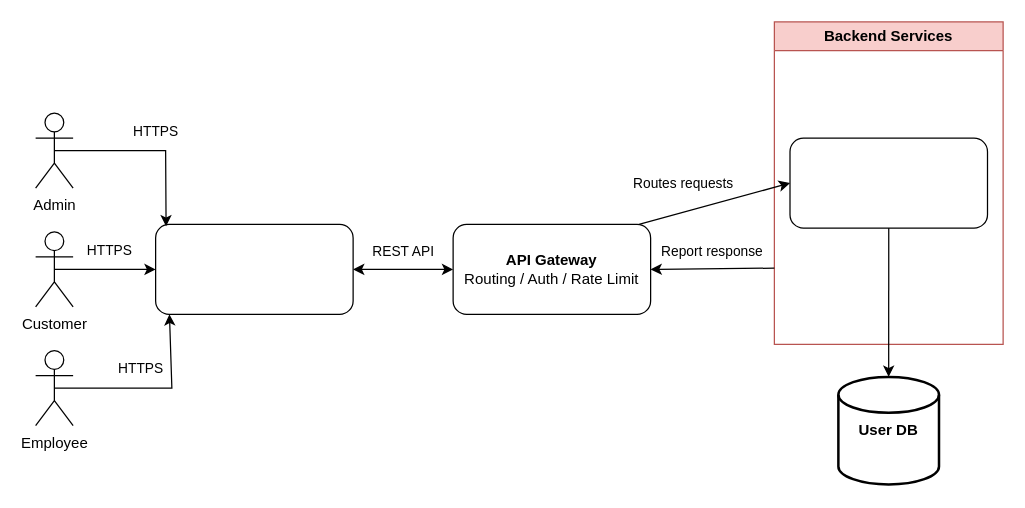
The diagram is 1025 pixels wide and 508 high, and some of its shapes have lost their labels. The shapes that lost their labels are listed below. From the top down, each one's centre as x and y in pixels, then its label:
At (888,182): "User Service".
At (253,268): "React Frontend UI / Client".
